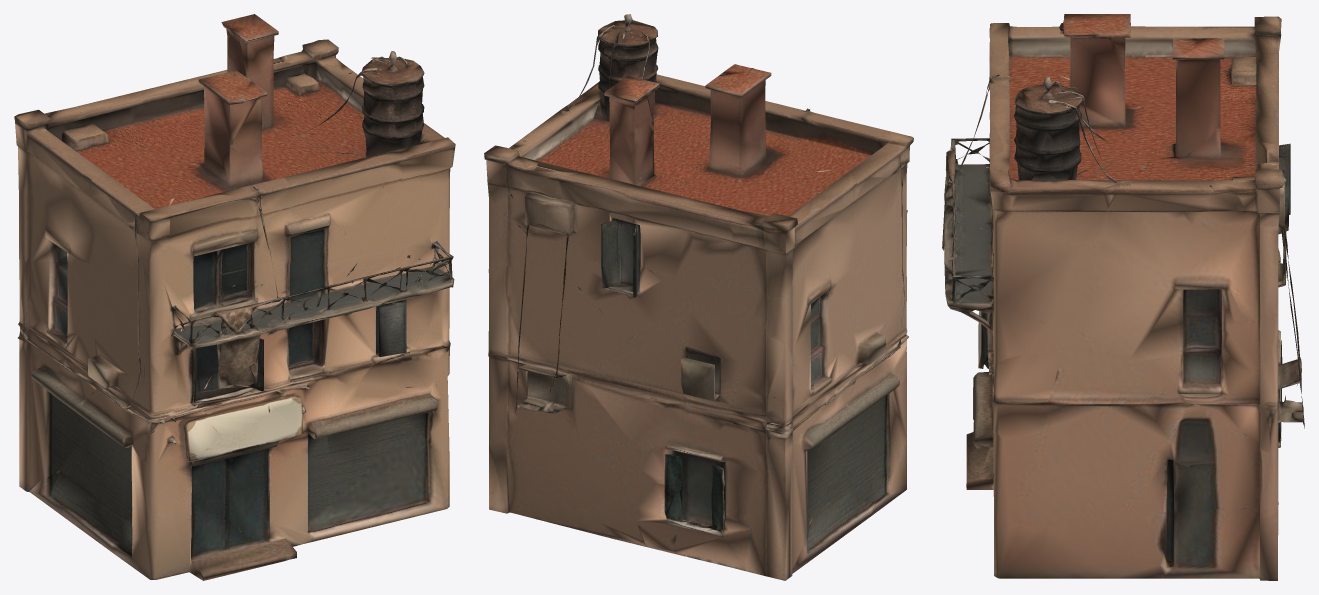
Rendered from shop.glb.
The picture shows the model from 3 angles, left to right: view 1: azimuth 30°, elevation 25°; view 2: azimuth 150°, elevation 25°; view 3: azimuth 270°, elevation 25°; orthographic projection. The views are drawn at different scales.
Size of the model in its own units: 1.41 by 1.88 by 1.28.
1 material, 1 textured.
